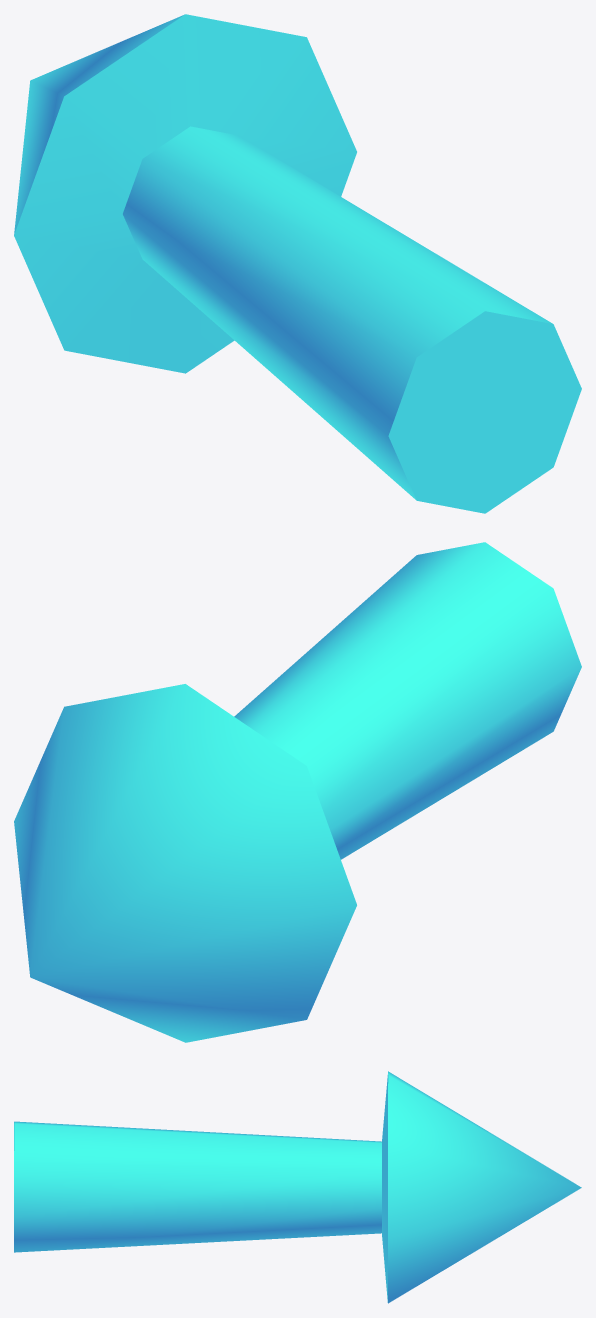
The model's file is LeaderHelper.fbx.
3 renders of one model, top to bottom at view 1: azimuth 30°, elevation 25°; view 2: azimuth 150°, elevation 25°; view 3: azimuth 270°, elevation 25°, orthographic. The views are drawn at different scales.
Parts seen in each view (by area): view 1: LeaderHelper; view 2: LeaderHelper; view 3: LeaderHelper.
Part boxes in pixels (bbox=[...]): LeaderHelper: bbox=[14, 14, 581, 513]; LeaderHelper: bbox=[14, 542, 581, 1042]; LeaderHelper: bbox=[14, 1071, 581, 1303].
Bounding box in the file's own units: 0.8868 × 2.04 × 0.8868.
